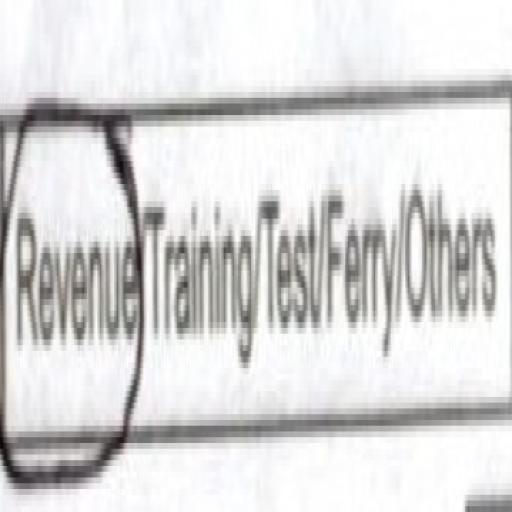check: (0, 23, 145, 512)
